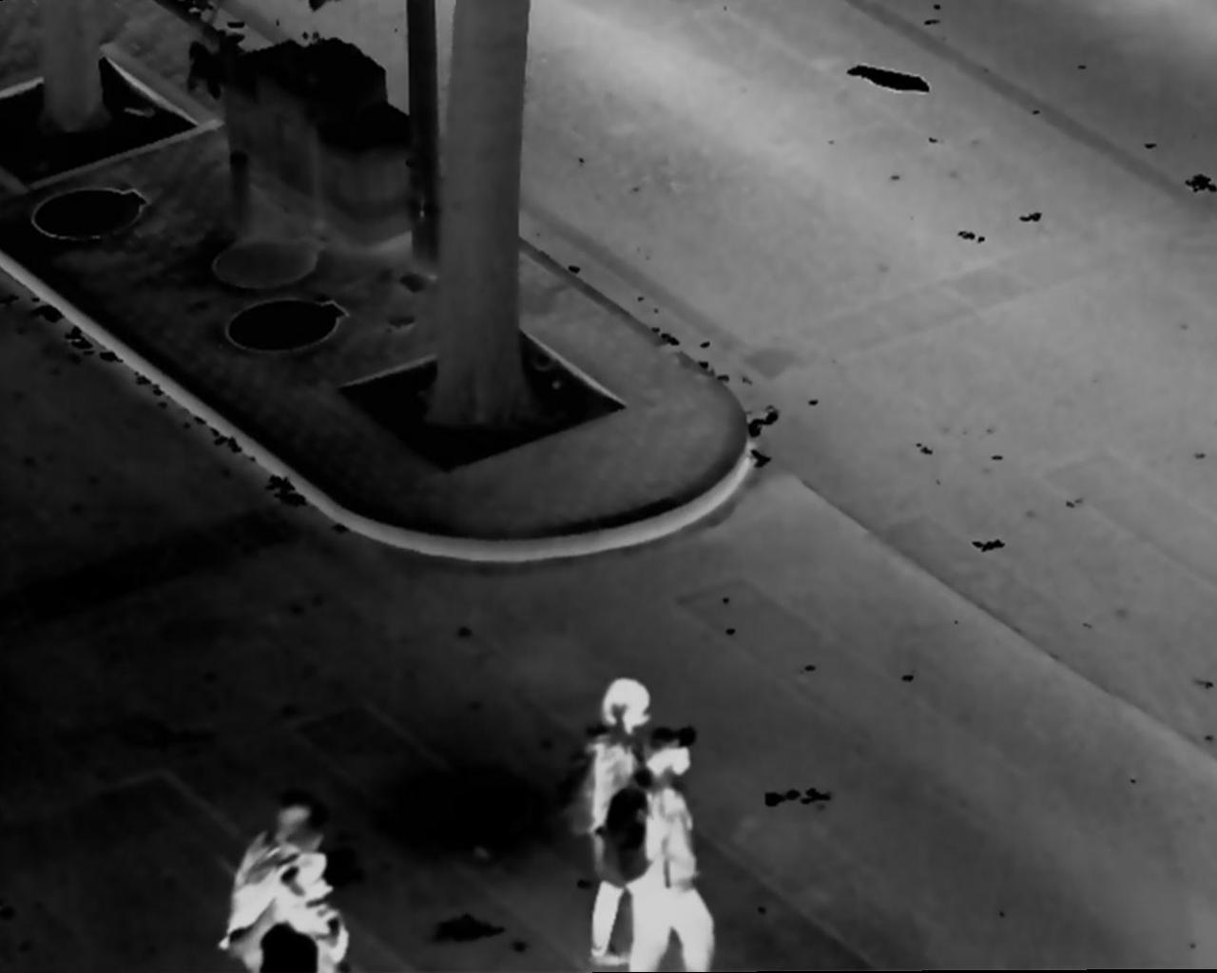person: (554, 665, 653, 973), (612, 722, 723, 973), (213, 791, 355, 973)
